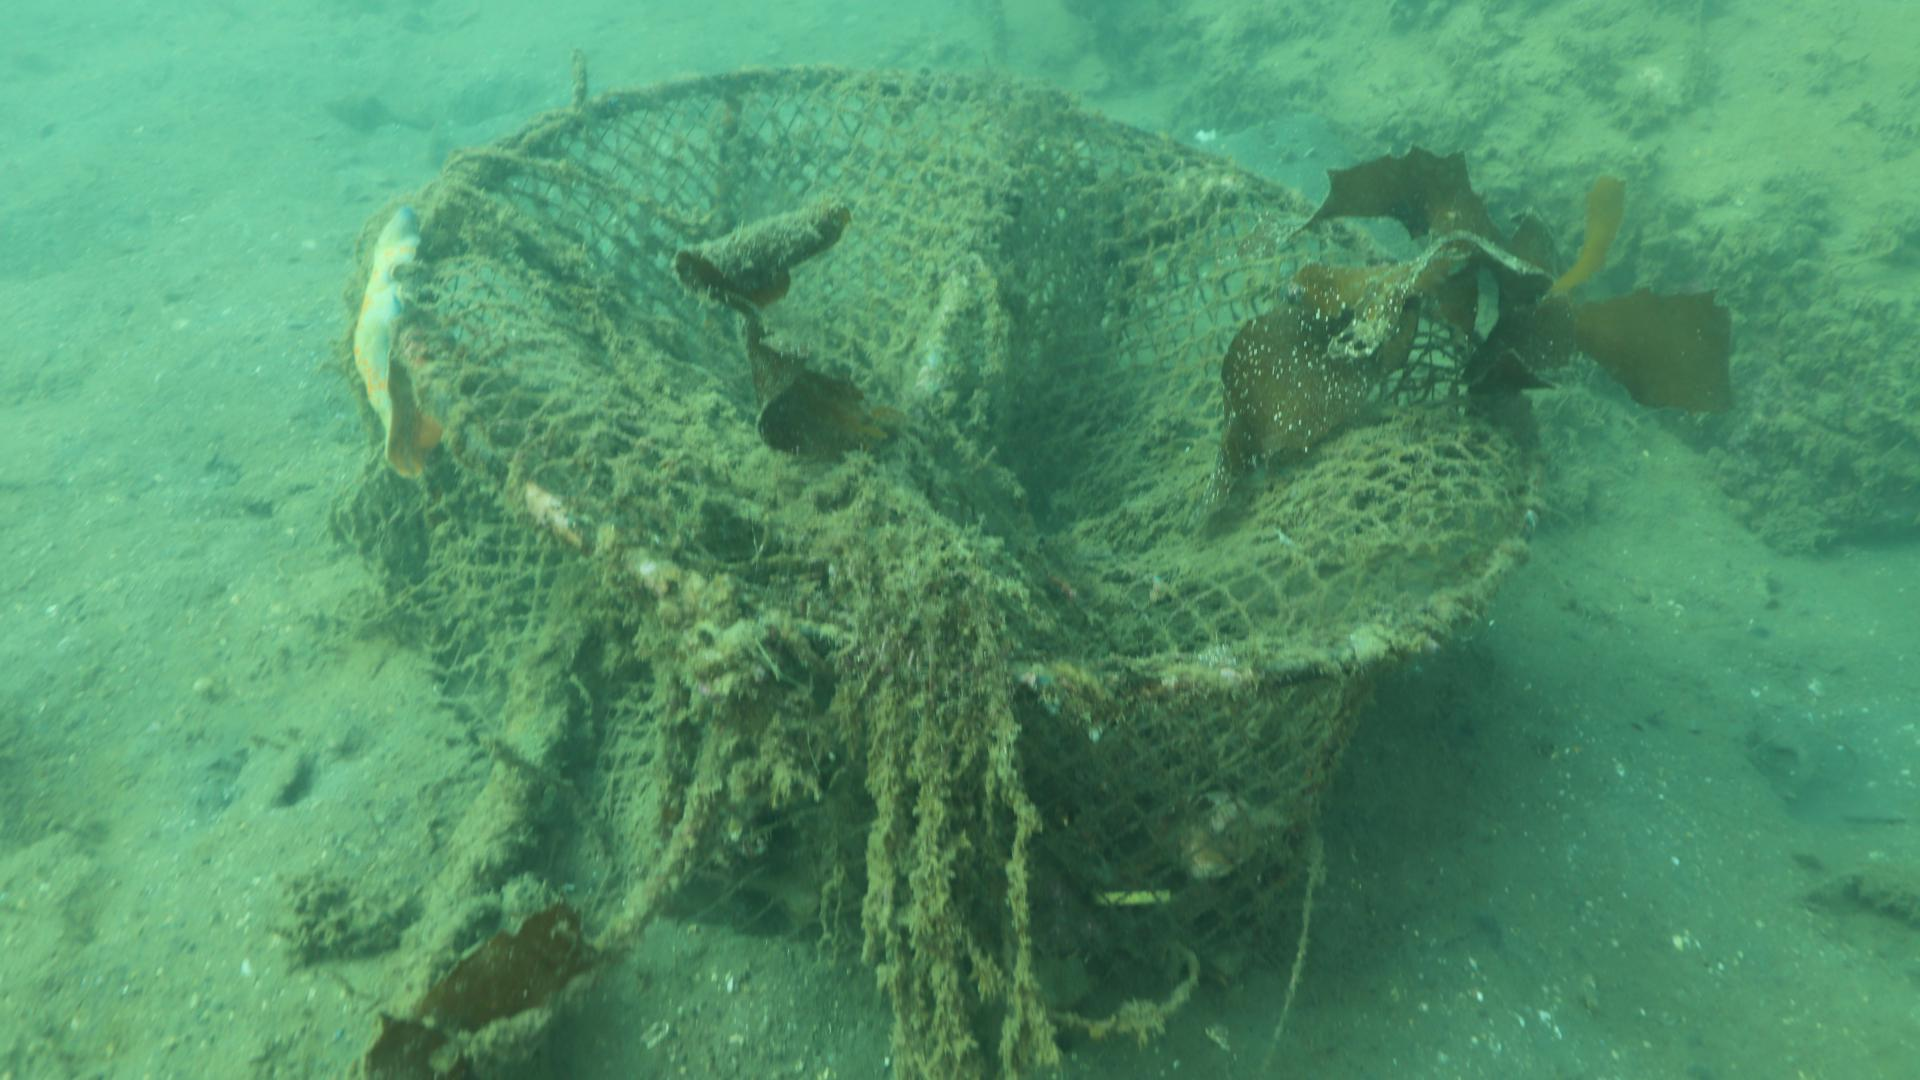circular fish trap: (388, 62, 1545, 984)
